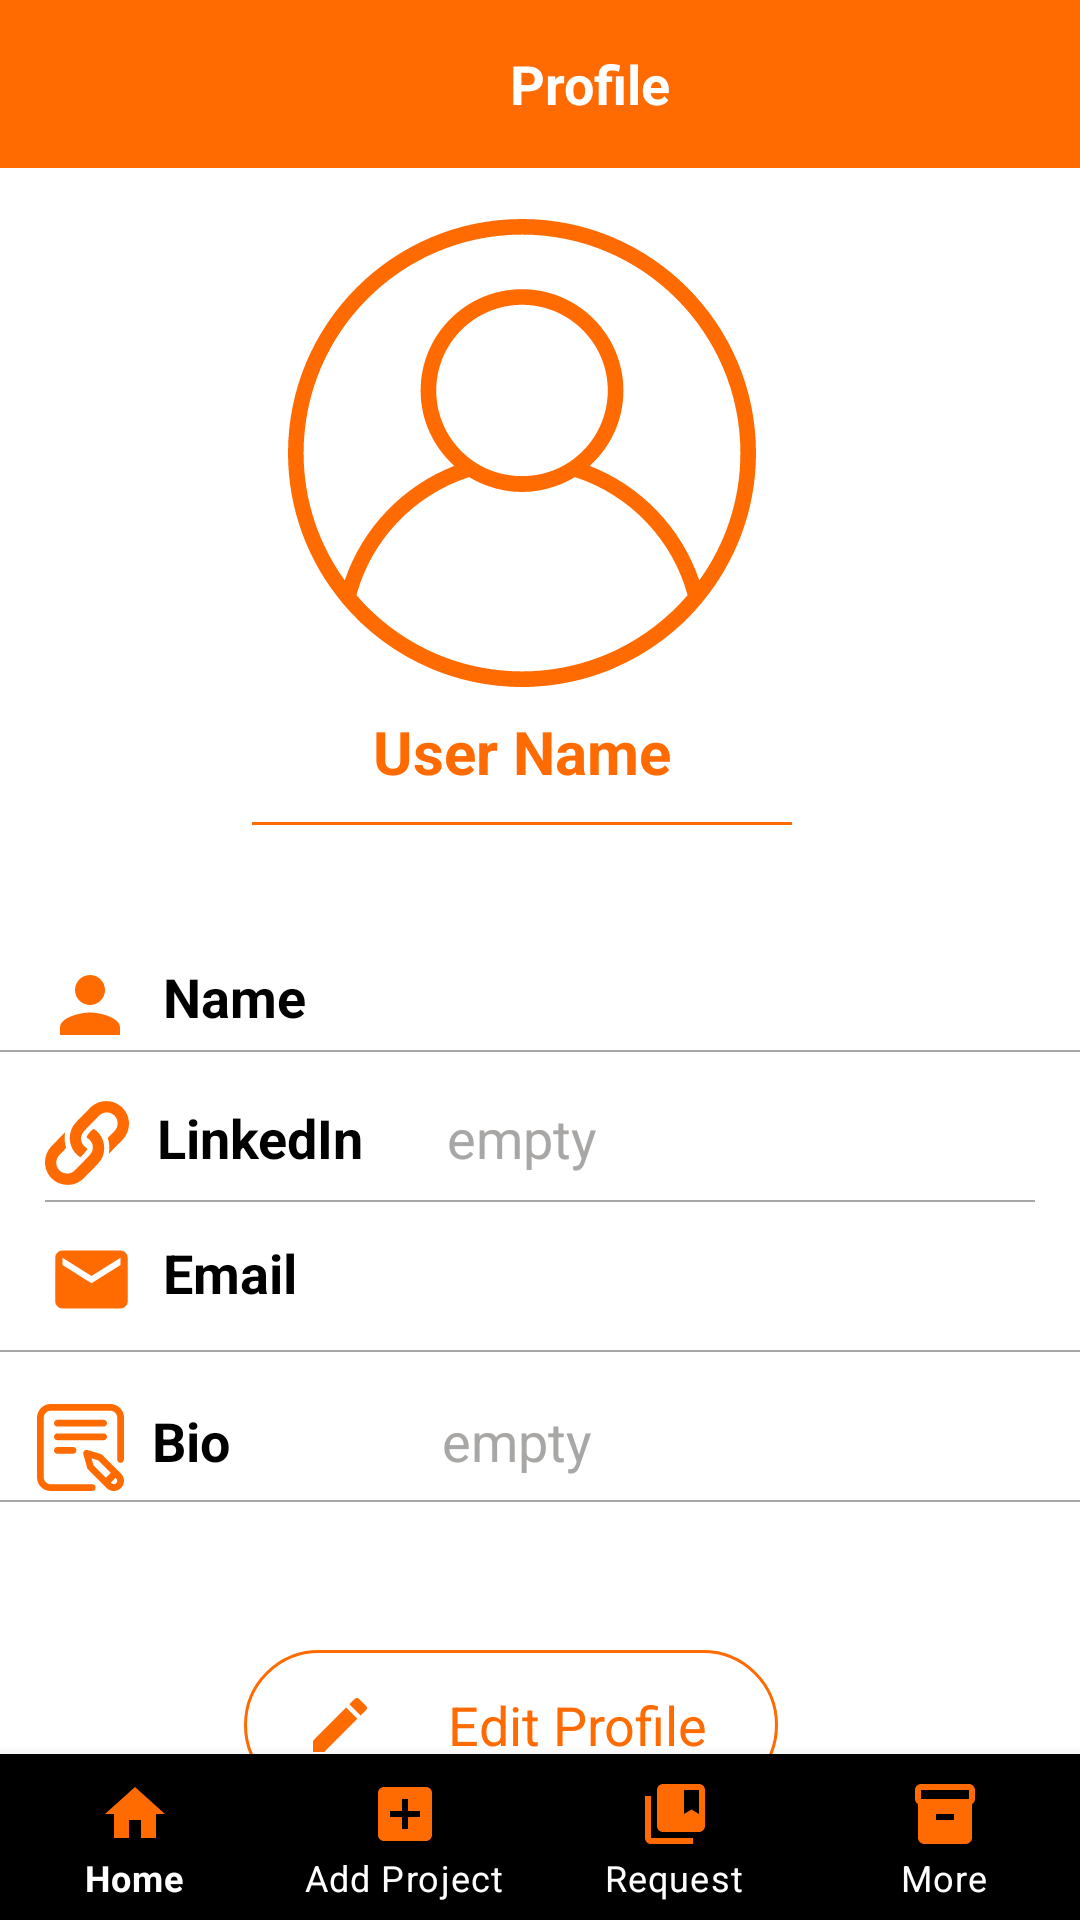

Icon bounding boxes for this 1080w x 1920h phone screenshot, format box(x1, y1, x2, y2):
person: box(60, 975, 120, 1035)
url: box(45, 1101, 129, 1185)
